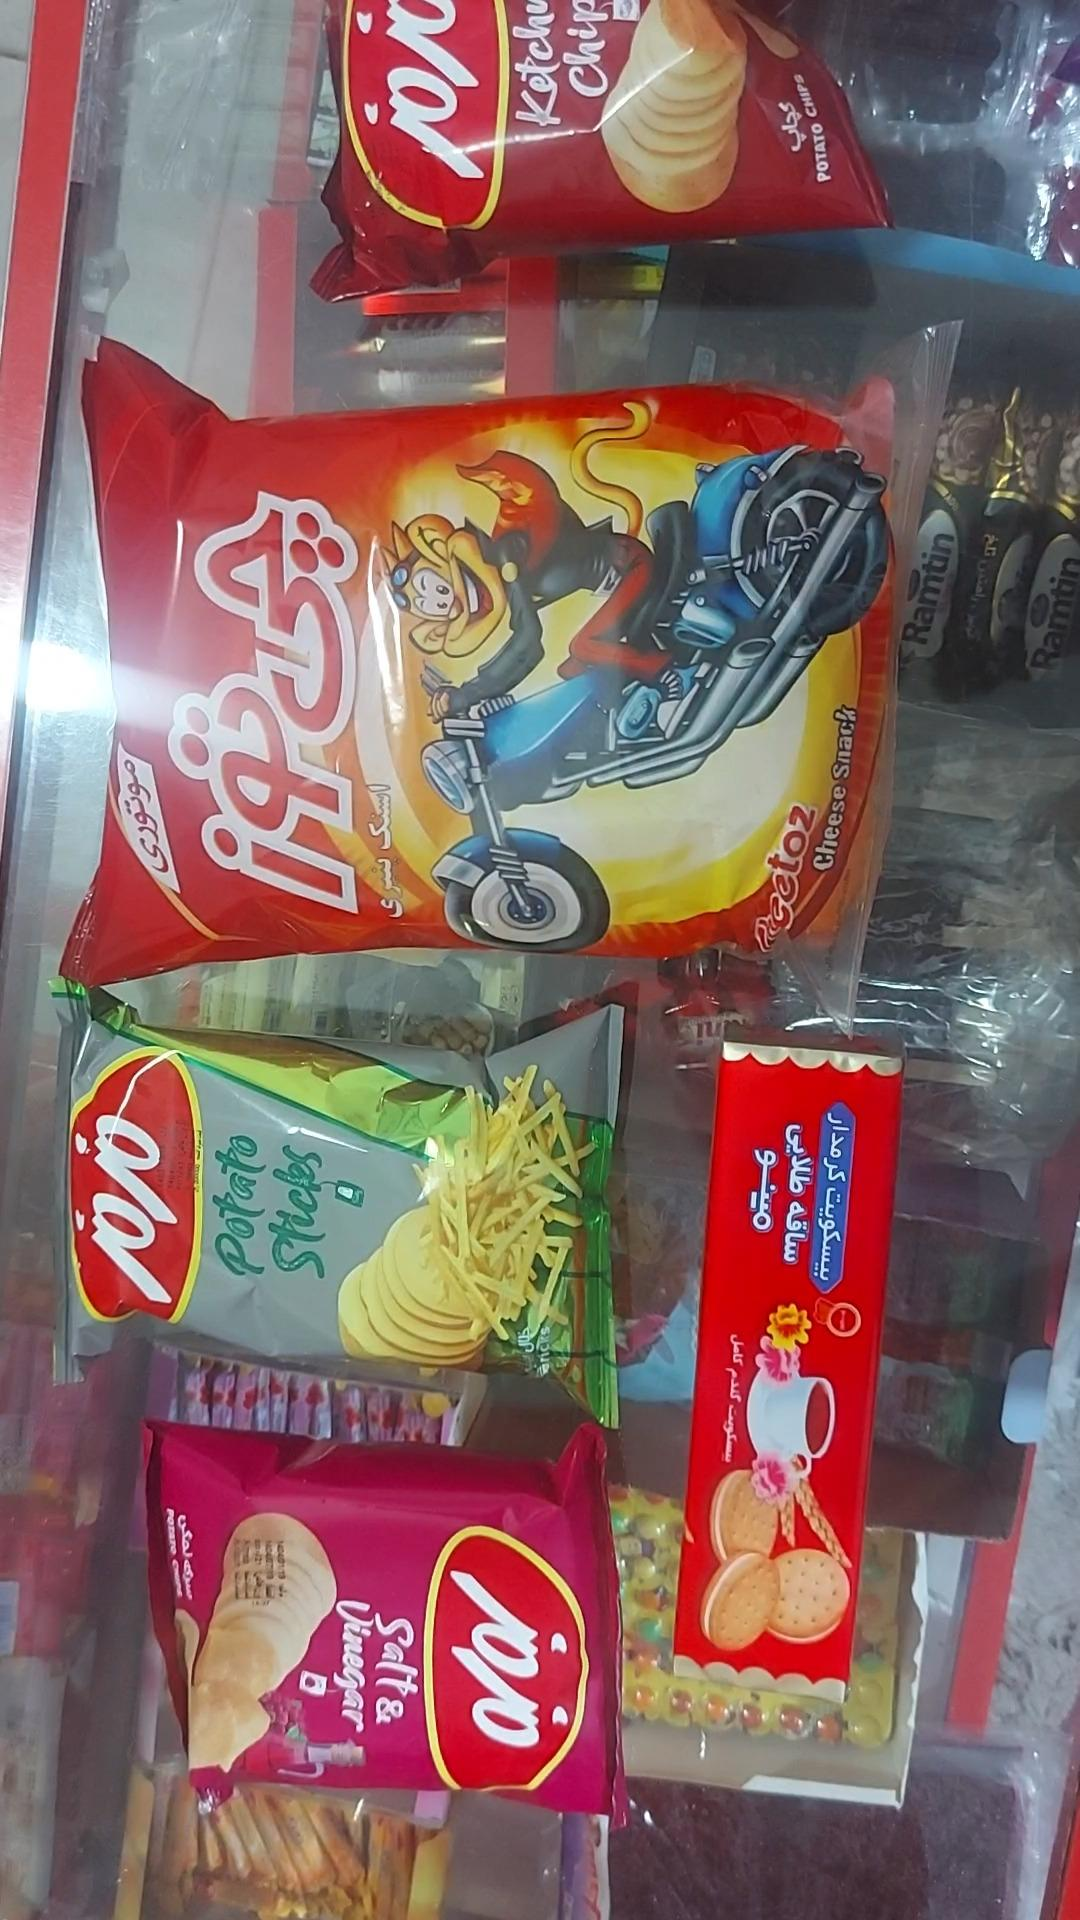Cheetoz snack 90g: (61, 324, 963, 1017)
Maz Maz ketchup chips: (310, 0, 891, 305)
Maz Maz potato sticks: (51, 978, 624, 1429)
Maz Maz vinegar chips: (144, 1422, 626, 1832)
Minoo cream biscuit: (673, 1043, 905, 1706)
